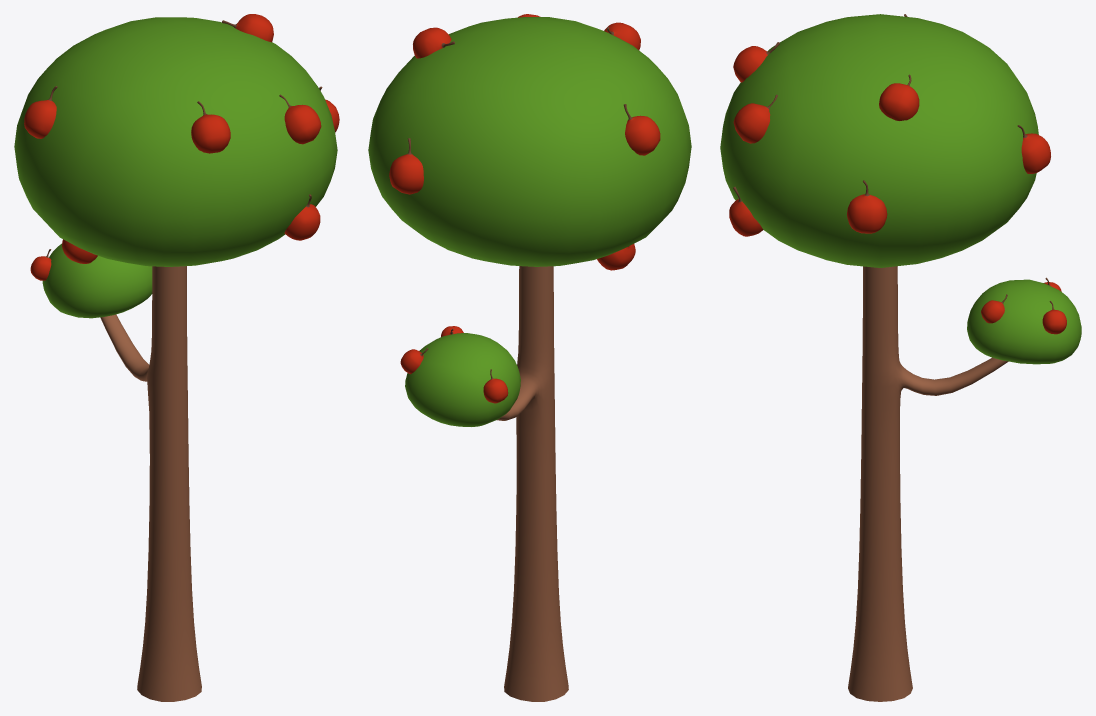
Rendered from tree9.fbx.
3 renders of one model, left to right at view 1: azimuth 30°, elevation 25°; view 2: azimuth 150°, elevation 25°; view 3: azimuth 270°, elevation 25°, orthographic.
Parts seen in each view (by area): view 1: Cube.054; view 2: Cube.054; view 3: Cube.054.
Boxes of the visible parts, box(x1,y1,x2,y2) form: Cube.054: box(14, 14, 339, 701); Cube.054: box(368, 14, 691, 701); Cube.054: box(720, 14, 1081, 701).
Size of the model in its own units: 2.92 by 3.1 by 6.2.
